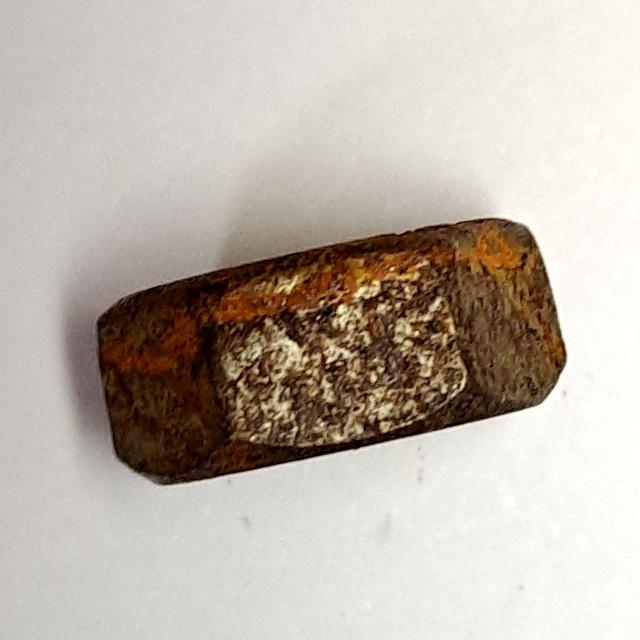Side_Rust: (83, 190, 576, 512)
